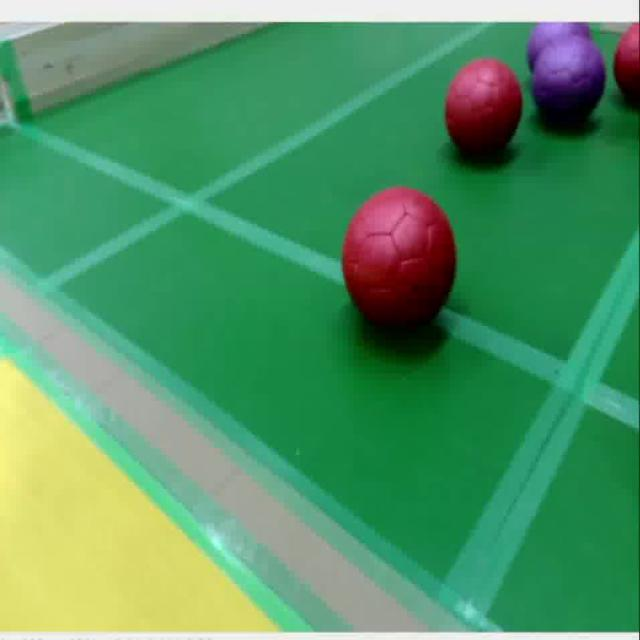purple_ball: (532, 40, 606, 135), (524, 22, 592, 70)
red_ball: (340, 183, 458, 345), (437, 54, 523, 163), (613, 22, 640, 114)
